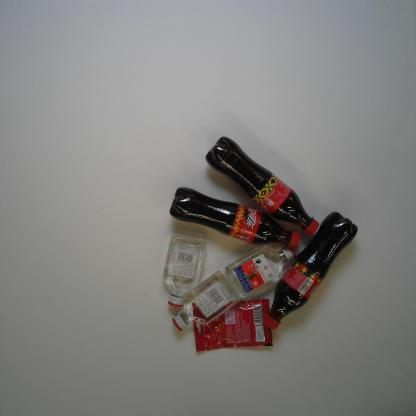Alcohol: (171, 270, 241, 332), (224, 244, 297, 300), (162, 234, 206, 308)
Candy: (192, 298, 274, 353)
Drink: (204, 136, 320, 236), (262, 211, 358, 330), (168, 186, 301, 250)
